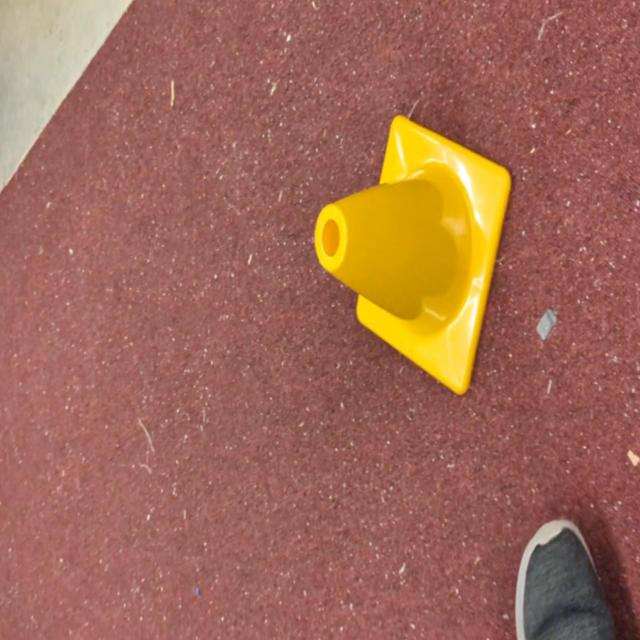frc_cone: (312, 117, 516, 399)
